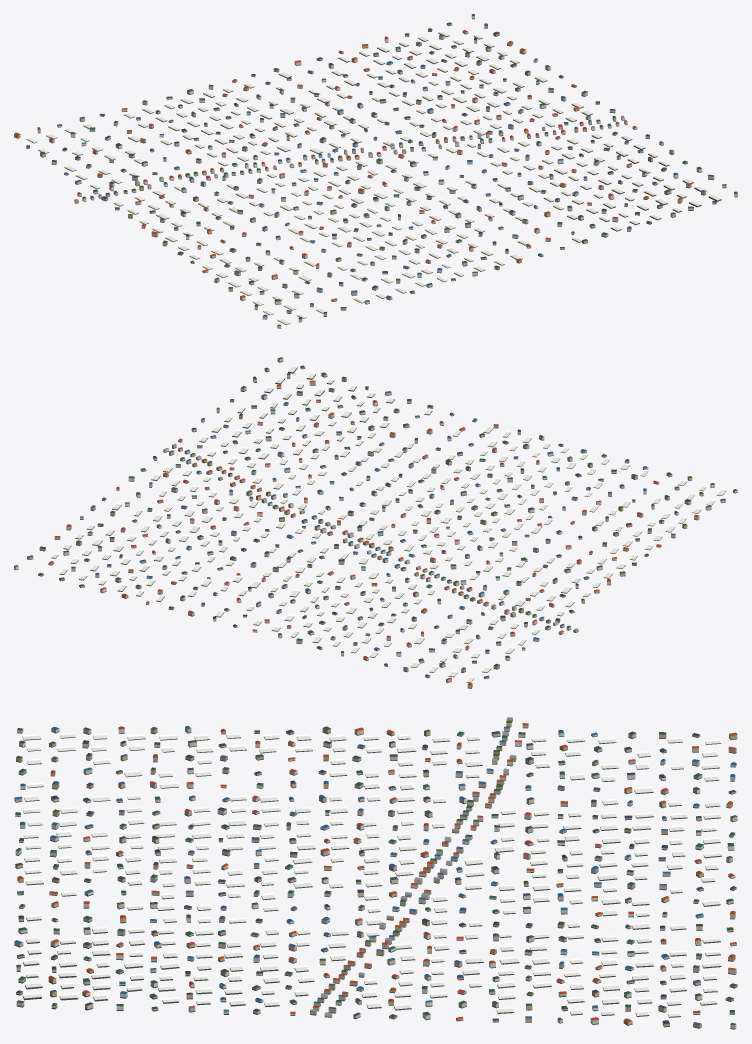
Rendered from buildings_T_W03_N07.glb.
3 views of the same model, one above another, from view 1: azimuth 30°, elevation 25°; view 2: azimuth 150°, elevation 25°; view 3: azimuth 270°, elevation 25° (orthographic). The views are drawn at different scales.
Visible parts, largest first — view 1: T_W03_N07_roofs_agri_greenhouse_arch, T_W03_N07_slope_seating_foundations, T_W03_N07_walls_wall_dalat_cream_stucco, T_W03_N07_walls_wall_modern_warm_white, T_W03_N07_walls_wall_pastel_sand_gray, T_W03_N07_walls_wall_french_ochre_villa, T_W03_N07_roofs_roof_pine_green_hip, T_W03_N07_roofs_roof_terracotta_gable, T_W03_N07_roofs_roof_highland_blue_gable, T_W03_N07_roofs_roof_slate_French_villa_hip; view 2: T_W03_N07_roofs_agri_greenhouse_arch, T_W03_N07_slope_seating_foundations, T_W03_N07_walls_wall_dalat_cream_stucco, T_W03_N07_walls_wall_modern_warm_white, T_W03_N07_walls_wall_pastel_sand_gray, T_W03_N07_walls_wall_french_ochre_villa, T_W03_N07_roofs_roof_pine_green_hip, T_W03_N07_roofs_roof_terracotta_gable, T_W03_N07_roofs_roof_highland_blue_gable, T_W03_N07_roofs_roof_slate_French_villa_hip; view 3: T_W03_N07_roofs_agri_greenhouse_arch, T_W03_N07_slope_seating_foundations, T_W03_N07_walls_wall_dalat_cream_stucco, T_W03_N07_walls_wall_pastel_sand_gray, T_W03_N07_walls_wall_modern_warm_white, T_W03_N07_walls_wall_french_ochre_villa, T_W03_N07_roofs_roof_pine_green_hip, T_W03_N07_roofs_roof_terracotta_gable, T_W03_N07_roofs_roof_highland_blue_gable, T_W03_N07_roofs_roof_slate_French_villa_hip.
Part boxes in pixels (left/top/right/bottom): T_W03_N07_roofs_agri_greenhouse_arch: left=26, top=30, right=721, bottom=324; T_W03_N07_slope_seating_foundations: left=14, top=18, right=737, bottom=328; T_W03_N07_walls_wall_dalat_cream_stucco: left=26, top=35, right=737, bottom=309; T_W03_N07_walls_wall_modern_warm_white: left=57, top=15, right=716, bottom=328; T_W03_N07_walls_wall_pastel_sand_gray: left=37, top=24, right=687, bottom=310; T_W03_N07_walls_wall_french_ochre_villa: left=14, top=25, right=705, bottom=316; T_W03_N07_roofs_roof_pine_green_hip: left=40, top=14, right=737, bottom=326; T_W03_N07_roofs_roof_terracotta_gable: left=14, top=30, right=691, bottom=300; T_W03_N07_roofs_roof_highland_blue_gable: left=57, top=23, right=705, bottom=317; T_W03_N07_roofs_roof_slate_French_villa_hip: left=26, top=31, right=716, bottom=319; T_W03_N07_roofs_agri_greenhouse_arch: left=51, top=365, right=726, bottom=682; T_W03_N07_slope_seating_foundations: left=14, top=361, right=737, bottom=688; T_W03_N07_walls_wall_dalat_cream_stucco: left=63, top=358, right=711, bottom=678; T_W03_N07_walls_wall_modern_warm_white: left=14, top=367, right=737, bottom=677; T_W03_N07_walls_wall_pastel_sand_gray: left=38, top=378, right=679, bottom=682; T_W03_N07_walls_wall_french_ochre_villa: left=27, top=375, right=703, bottom=688; T_W03_N07_roofs_roof_pine_green_hip: left=14, top=357, right=737, bottom=666; T_W03_N07_roofs_roof_terracotta_gable: left=49, top=380, right=698, bottom=685; T_W03_N07_roofs_roof_highland_blue_gable: left=27, top=373, right=725, bottom=676; T_W03_N07_roofs_roof_slate_French_villa_hip: left=39, top=365, right=714, bottom=677; T_W03_N07_roofs_agri_greenhouse_arch: left=22, top=732, right=721, bottom=1016; T_W03_N07_slope_seating_foundations: left=14, top=720, right=737, bottom=1029; T_W03_N07_walls_wall_dalat_cream_stucco: left=14, top=722, right=737, bottom=1024; T_W03_N07_walls_wall_pastel_sand_gray: left=14, top=727, right=736, bottom=1021; T_W03_N07_walls_wall_modern_warm_white: left=15, top=728, right=736, bottom=1028; T_W03_N07_walls_wall_french_ochre_villa: left=15, top=718, right=737, bottom=1027; T_W03_N07_roofs_roof_pine_green_hip: left=15, top=721, right=737, bottom=1025; T_W03_N07_roofs_roof_terracotta_gable: left=17, top=723, right=737, bottom=1022; T_W03_N07_roofs_roof_highland_blue_gable: left=14, top=726, right=736, bottom=1025; T_W03_N07_roofs_roof_slate_French_villa_hip: left=15, top=729, right=736, bottom=1024.
Size of the model in its own units: 1826 by 99.21 by 1752.
